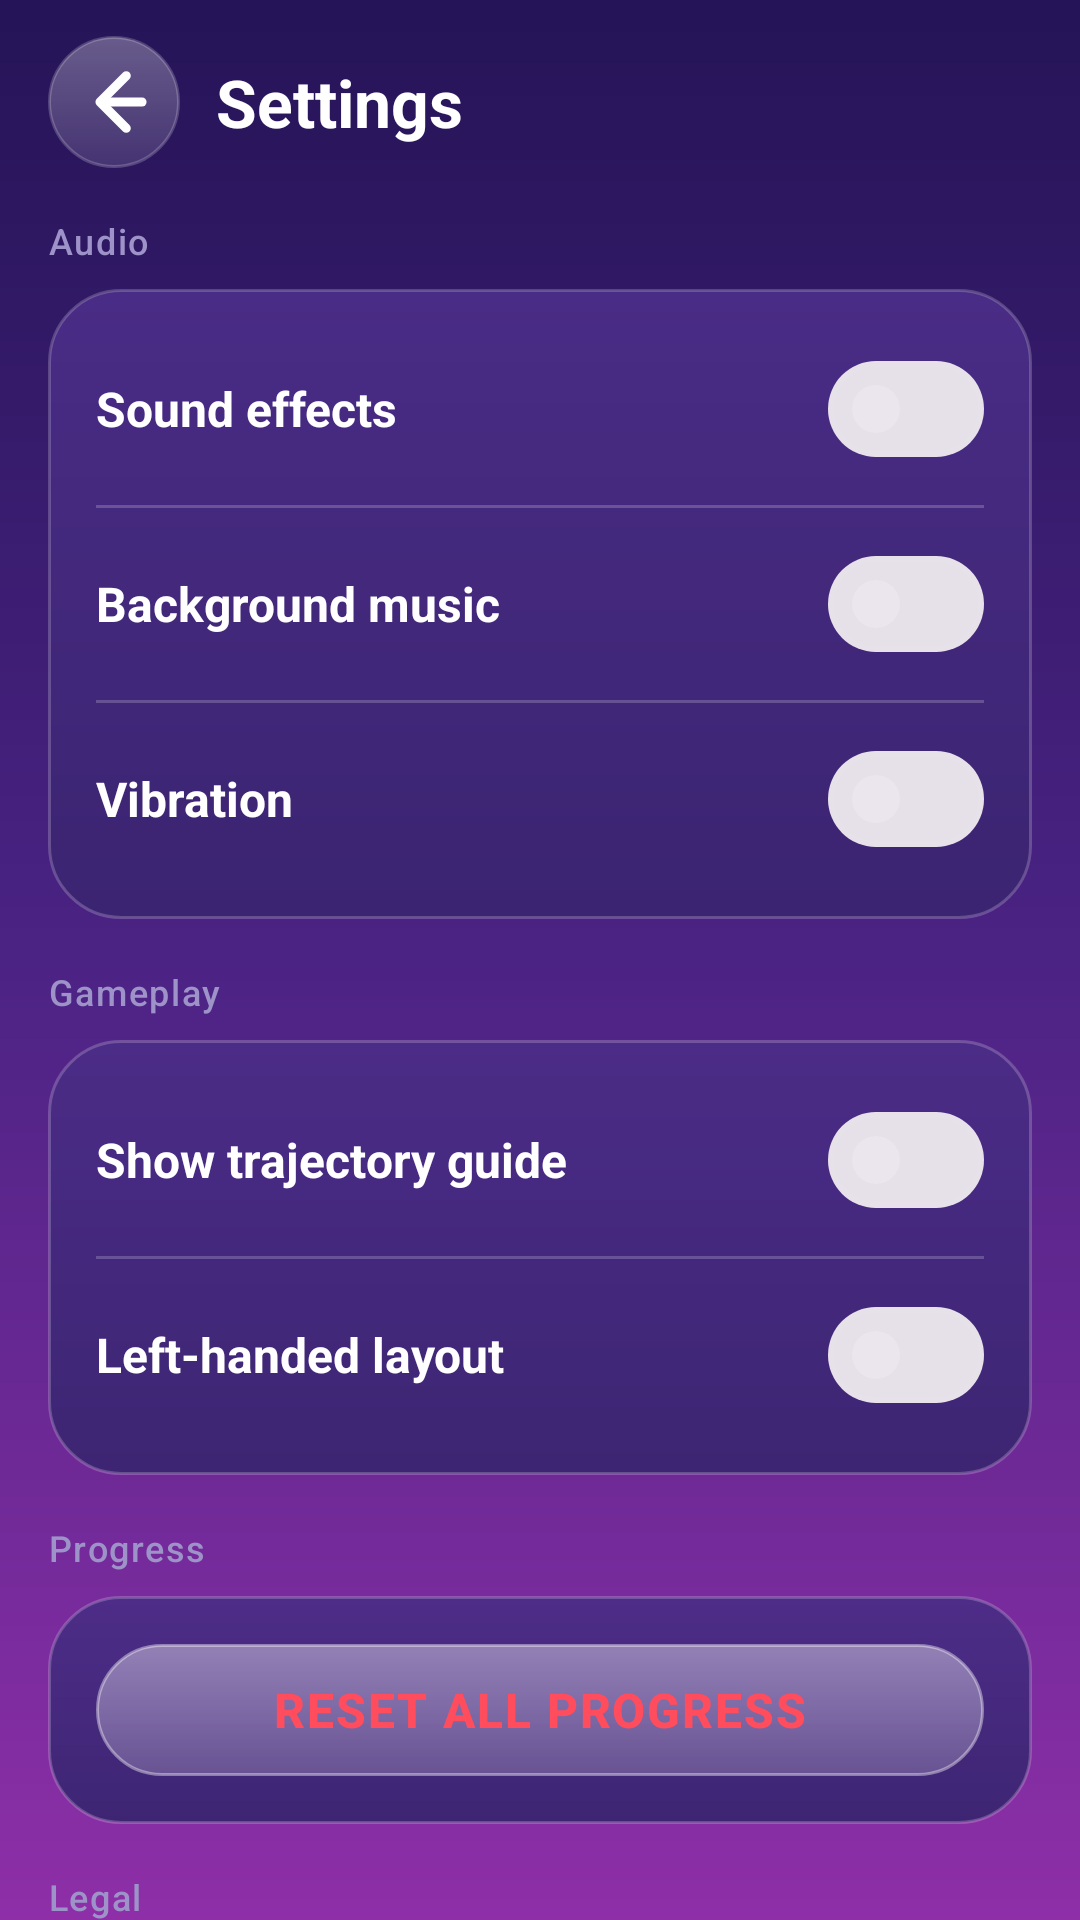

Icon bounding boxes for this 1080×1920 phone screenshot, format (x1, y1, x2, y2):
Go back: (48, 36, 180, 168)
